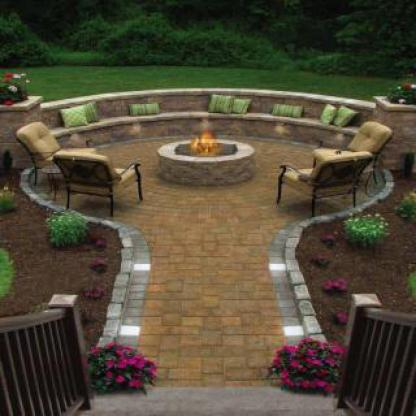fire: (190, 112, 222, 154)
